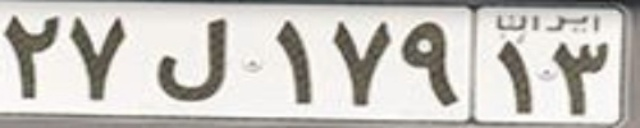1: (275, 16, 318, 103), (493, 39, 534, 114)
2: (2, 12, 58, 100)
3: (551, 41, 612, 116)
7: (332, 19, 399, 106), (68, 14, 123, 100)
9: (402, 18, 468, 106)
lam: (156, 16, 226, 101)
